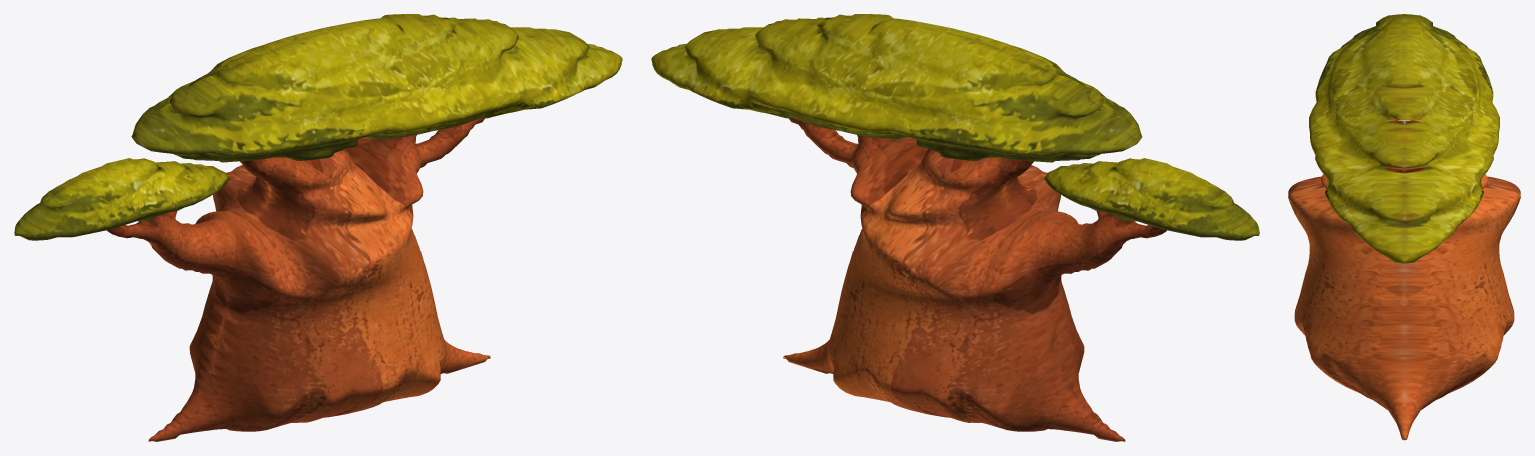
Rendered from 24_trees_c_r01_c00.glb.
3 renders of one model, left to right at view 1: azimuth 30°, elevation 25°; view 2: azimuth 150°, elevation 25°; view 3: azimuth 270°, elevation 25°, orthographic. The views are drawn at different scales.
Parts seen in each view (by area): view 1: 24_trees_c_r01_c00; view 2: 24_trees_c_r01_c00; view 3: 24_trees_c_r01_c00.
Boxes of the visible parts, <box> form: 24_trees_c_r01_c00: <box>14,14,622,441</box>; 24_trees_c_r01_c00: <box>651,14,1259,441</box>; 24_trees_c_r01_c00: <box>1288,14,1520,440</box>.
Size of the model in its own units: 8.71 by 5.05 by 3.26.
Materials: 1 (1 with a texture image).
